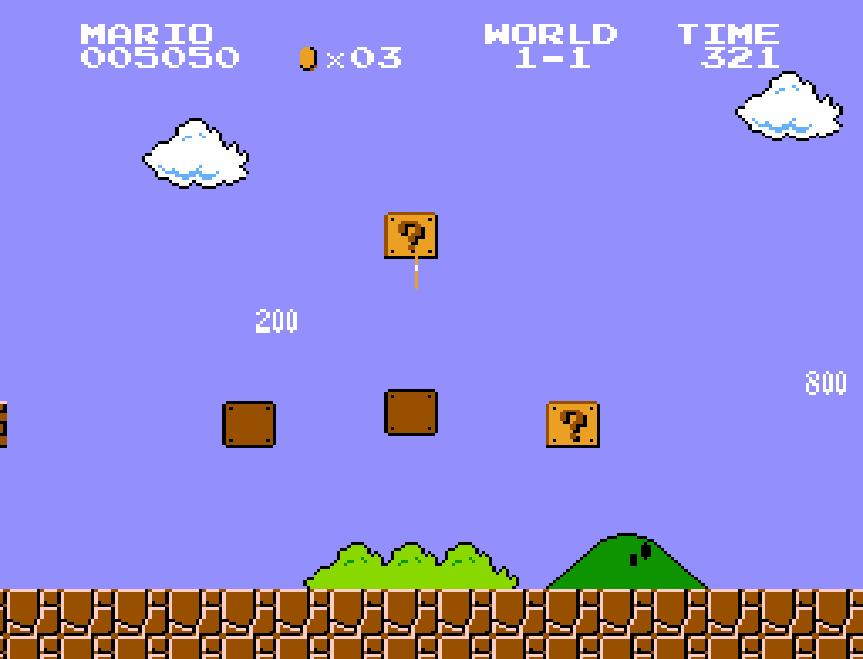little_mario: (379, 506, 437, 556)
